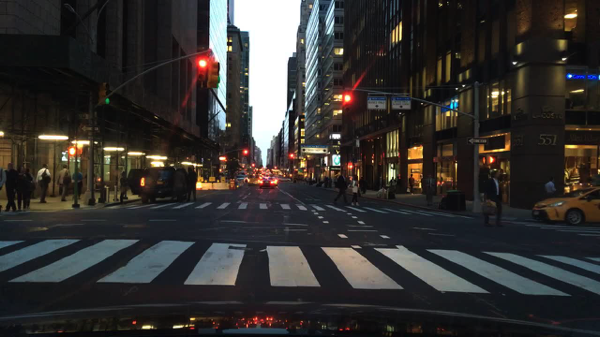car: (529, 184, 599, 228), (126, 166, 177, 204), (258, 175, 279, 190), (247, 177, 264, 189), (249, 170, 259, 180), (282, 171, 293, 180), (235, 175, 249, 182), (271, 168, 282, 176), (237, 169, 247, 176)
person: (480, 168, 506, 229), (34, 162, 52, 205), (4, 162, 18, 213), (330, 169, 348, 206), (15, 164, 28, 211), (57, 164, 72, 204), (347, 173, 362, 208), (186, 164, 199, 203), (24, 168, 35, 209), (423, 172, 435, 209), (72, 168, 84, 201), (119, 170, 130, 202), (542, 176, 557, 198), (83, 170, 96, 189), (407, 172, 416, 194), (389, 176, 395, 191), (394, 175, 399, 187)
traffic light: (208, 61, 221, 88), (198, 57, 207, 87), (99, 82, 110, 104), (343, 93, 352, 114), (488, 154, 497, 164), (480, 155, 487, 166), (68, 147, 76, 156), (79, 146, 85, 156), (244, 150, 249, 157), (289, 154, 294, 161), (252, 163, 256, 169)
traffic sign: (301, 143, 328, 154), (366, 96, 386, 110), (390, 97, 410, 110), (466, 138, 487, 145), (80, 126, 100, 132)
